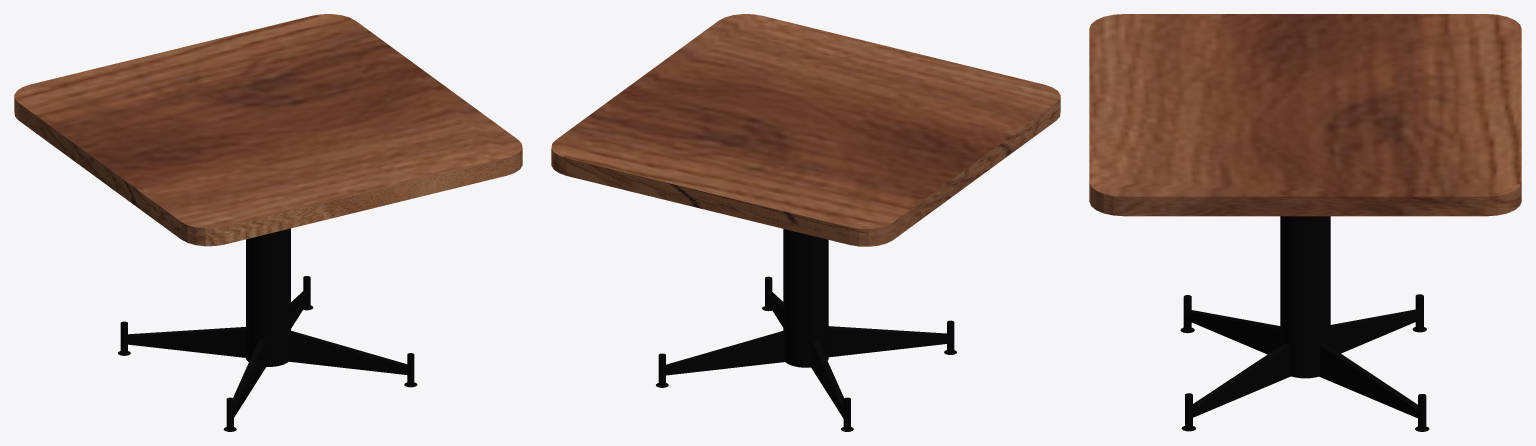
The model's file is ban vuong.fbx.
The picture shows the model from 3 angles, left to right: view 1: azimuth 30°, elevation 25°; view 2: azimuth 150°, elevation 25°; view 3: azimuth 270°, elevation 25°; orthographic projection. The views are drawn at different scales.
Visible parts, largest first — view 1: Cube, Cylinder, Cube.002, Cube.004, Cube.001; view 2: Cube, Cylinder, Cube.003, Cube.001, Cube.004; view 3: Cube, Cylinder, Cube.002, Cube.003, Cube.001, Cube.004.
Boxes of the visible parts, <box> form: Cube: <box>14,14,522,246</box>; Cylinder: <box>246,228,290,366</box>; Cube.002: <box>289,330,407,374</box>; Cube.004: <box>125,327,245,357</box>; Cube.001: <box>233,338,265,417</box>; Cube: <box>551,14,1060,246</box>; Cylinder: <box>783,229,828,367</box>; Cube.003: <box>665,331,784,375</box>; Cube.001: <box>828,326,949,357</box>; Cube.004: <box>811,338,843,418</box>; Cube: <box>1089,14,1521,216</box>; Cylinder: <box>1280,216,1330,378</box>; Cube.002: <box>1192,343,1290,417</box>; Cube.003: <box>1319,343,1418,418</box>; Cube.001: <box>1187,310,1280,354</box>; Cube.004: <box>1330,309,1420,353</box>.
Bounding box in the file's own units: 60 × 42 × 60.
2 materials, 1 textured.
